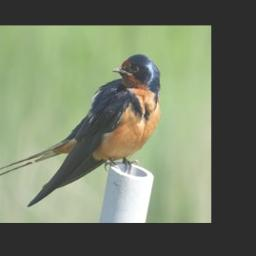Swallow: (0, 51, 163, 204)
